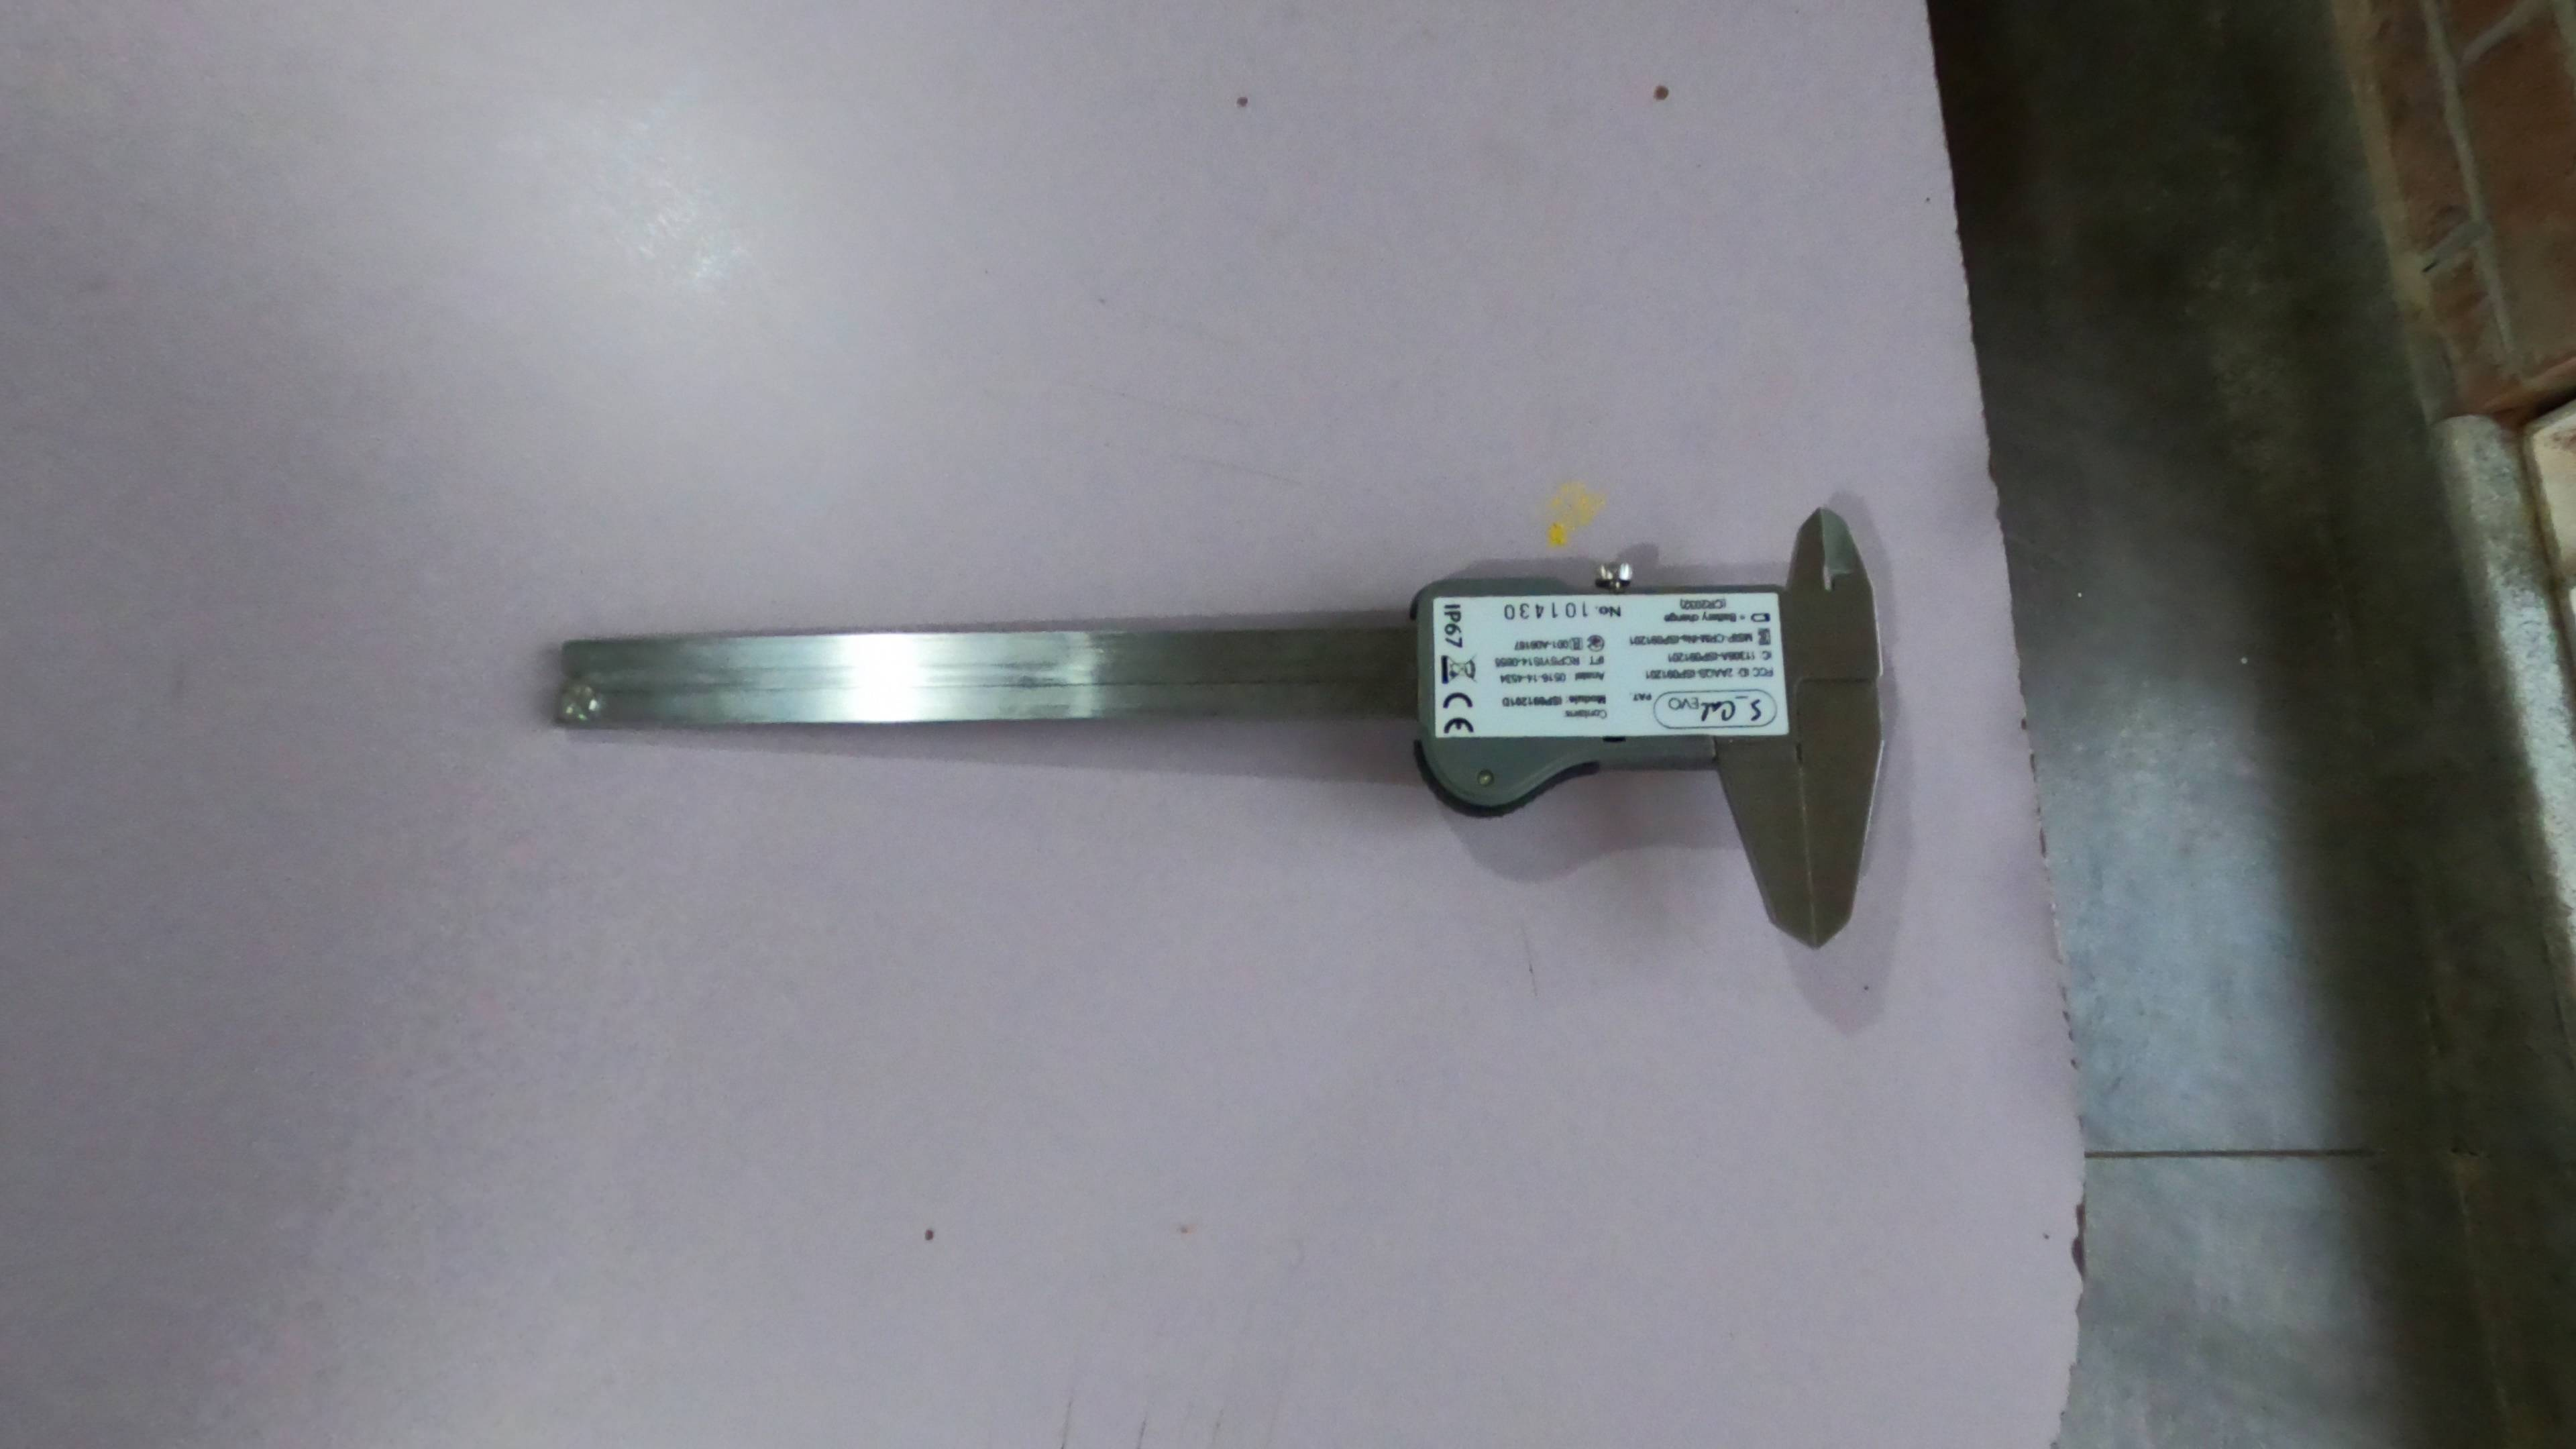vernier_caliper: (536, 506, 1888, 955)
